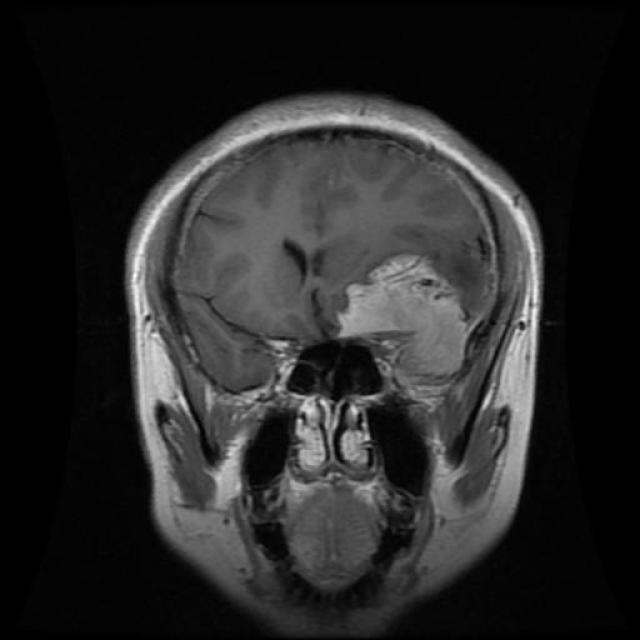meningioma: (341, 256, 468, 390)
